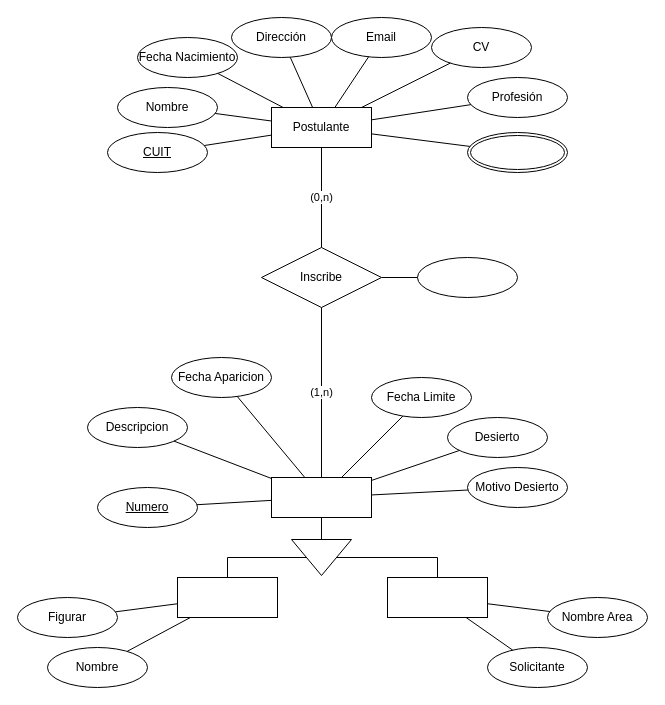
This 665x705 diagram has some shape labels left out. Here are the shapes that lost their labels. From the top down, the centre of each, then its label:
point 517,152: TE
point 467,277: Fecha
point 321,497: Llamado
point 227,597: Otra Empresa
point 437,597: Area
